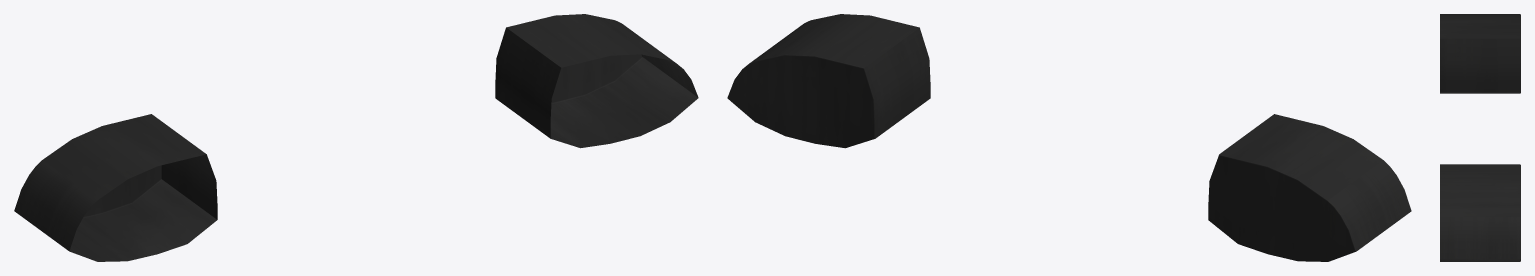
Rendered from rcfMufflers.obj.
3 renders of one model, left to right at view 1: azimuth 30°, elevation 25°; view 2: azimuth 150°, elevation 25°; view 3: azimuth 270°, elevation 25°, orthographic. The views are drawn at different scales.
Parts seen in each view (by area): view 1: rcfMufflers; view 2: rcfMufflers; view 3: rcfMufflers.
Boxes of the visible parts, left/top/right/bottom form: rcfMufflers: left=14, top=14, right=698, bottom=261; rcfMufflers: left=727, top=14, right=1411, bottom=261; rcfMufflers: left=1440, top=14, right=1520, bottom=261.
Size of the model in its own units: 141 by 18.79 by 21.54.
1 material, 1 textured.
